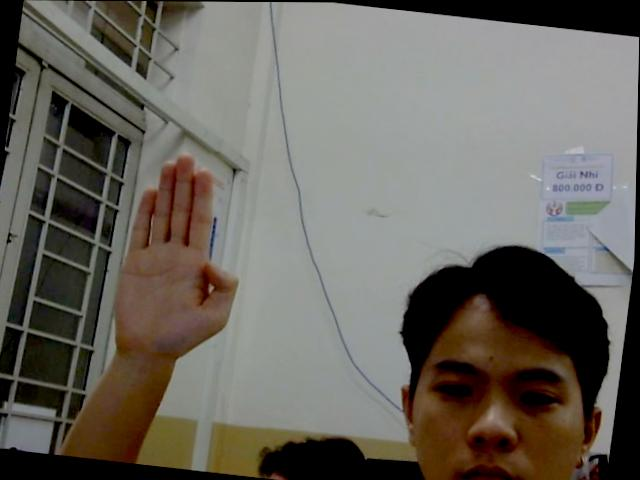B: (106, 144, 270, 354)
